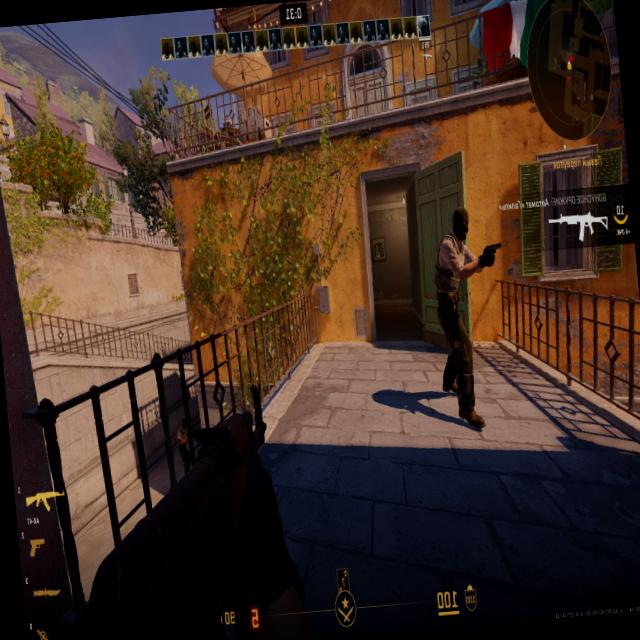T: (430, 212, 473, 386)
T_heat: (448, 225, 460, 242)
